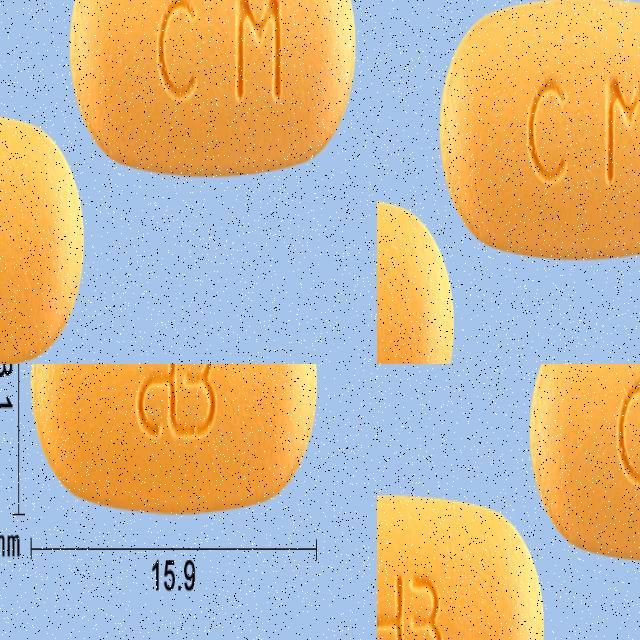Clarid - 250mg: (72, 0, 361, 180), (0, 99, 87, 364)
Claridon: (377, 485, 546, 640), (527, 364, 640, 570)
Craycin - 500mg: (30, 364, 321, 514)
